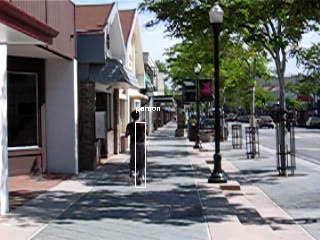person: (125, 111, 149, 187), (124, 111, 148, 187), (126, 111, 150, 187), (125, 110, 149, 186), (125, 112, 149, 188)
target_negative: (40, 163, 288, 232), (83, 87, 189, 162), (73, 202, 173, 227), (65, 98, 77, 131), (307, 76, 318, 96)
